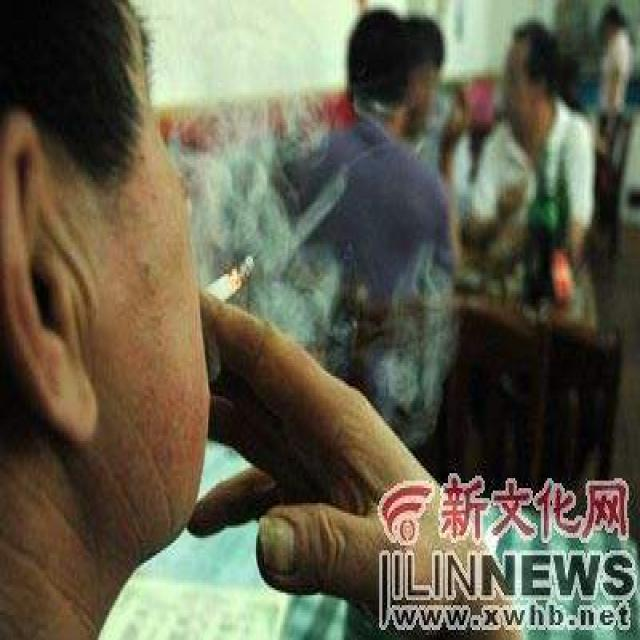smoke: (187, 249, 262, 322)
